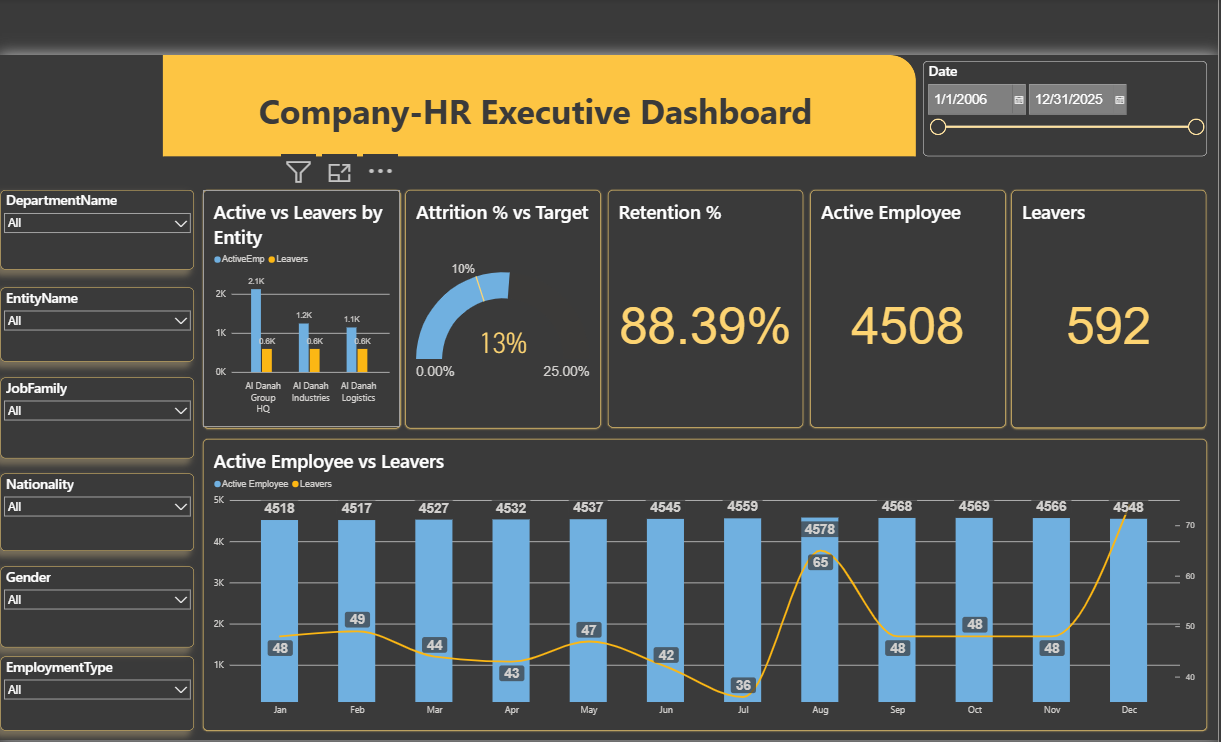

The page's visual inventory and layout, read from the dashboard file:
{"tool":"powerbi","page":{"name":"Executive","canvas":[1920,1080],"ordinal":0},"visuals":[{"type":"shape","box":[257,0,1186.8,160.3],"z":1000},{"type":"slicer","fields":{"Values":["DateTable.Date"]},"box":[1454.4,10.6,447.5,149.7],"z":2000},{"type":"slicer","fields":{"Values":["Departments.DepartmentName"]},"box":[3.5,212.6,304.9,125.4],"z":3000},{"type":"slicer","fields":{"Values":["Locations.EntityName"]},"box":[3.5,365.9,304.9,116.7],"z":4000},{"type":"slicer","fields":{"Values":["Jobs.JobFamily"]},"box":[3.5,507,304.9,127.2],"z":5000},{"type":"slicer","fields":{"Values":["FinalMasterData.Nationality"]},"box":[1.7,658.6,304.9,122],"z":6000},{"type":"slicer","fields":{"Values":["FinalMasterData.Gender"]},"box":[1.7,806.7,304.9,127.2],"z":7000},{"type":"slicer","fields":{"Values":["FinalMasterData.EmploymentType"]},"box":[3.5,947.8,304.9,116.7],"z":8000},{"type":"card","title":"Retention %","fields":{"Values":["_Measures.Retention %"]},"box":[960.3,212.8,307.2,373.7],"z":9000},{"type":"gauge","title":"Attrition % vs Target","fields":{"MaxValue":["_Measures.Attrition MaxTarget"],"TargetValue":["_Measures.Attrition MinTarget"],"Y":["_Measures.Attrition %"]},"box":[641.1,211.5,307.2,375.1],"z":10000},{"type":"clusteredColumnChart","title":"Active vs Leavers by Entity","fields":{"Category":["Locations.EntityName"],"Y":["_Measures.ActiveEmp","_Measures.Leavers"]},"box":[320.5,211.5,311.2,375.1],"z":11000},{"type":"lineStackedColumnComboChart","title":"Active Employee vs Leavers","fields":{"Category":["DateTable.Month"],"Y":["_Measures.Monthly Headcount"],"Y2":["_Measures.Leavers"]},"box":[320.5,604.7,1581.4,459.6],"z":12000},{"type":"card","title":"Active Employee","fields":{"Values":["Count(FinalMasterData.EmployeeID)"]},"box":[1278.2,212.8,307.2,373.7],"z":13000},{"type":"card","title":"Leavers","fields":{"Values":["_Measures.Leavers"]},"box":[1595,213.2,306.9,374.9],"z":14000}]}

Visuals, with their boxes on the page's 1920x1080 design canvas (x1, y1, x2, y2). These are canvas units, not pixel positions in the 1221x742 screenshot, which may show the page scaled, cropped or inside an application window:
shape: pyautogui.locateOnScreen(257, 0, 1444, 160)
slicer - DateTable.Date: pyautogui.locateOnScreen(1454, 11, 1902, 160)
slicer - Departments.DepartmentName: pyautogui.locateOnScreen(4, 213, 308, 338)
slicer - Locations.EntityName: pyautogui.locateOnScreen(4, 366, 308, 483)
slicer - Jobs.JobFamily: pyautogui.locateOnScreen(4, 507, 308, 634)
slicer - FinalMasterData.Nationality: pyautogui.locateOnScreen(2, 659, 307, 781)
slicer - FinalMasterData.Gender: pyautogui.locateOnScreen(2, 807, 307, 934)
slicer - FinalMasterData.EmploymentType: pyautogui.locateOnScreen(4, 948, 308, 1064)
"Retention %" card: pyautogui.locateOnScreen(960, 213, 1268, 586)
"Attrition % vs Target" gauge: pyautogui.locateOnScreen(641, 212, 948, 587)
"Active vs Leavers by Entity" clusteredColumnChart: pyautogui.locateOnScreen(320, 212, 632, 587)
"Active Employee vs Leavers" lineStackedColumnComboChart: pyautogui.locateOnScreen(320, 605, 1902, 1064)
"Active Employee" card: pyautogui.locateOnScreen(1278, 213, 1585, 586)
"Leavers" card: pyautogui.locateOnScreen(1595, 213, 1902, 588)
